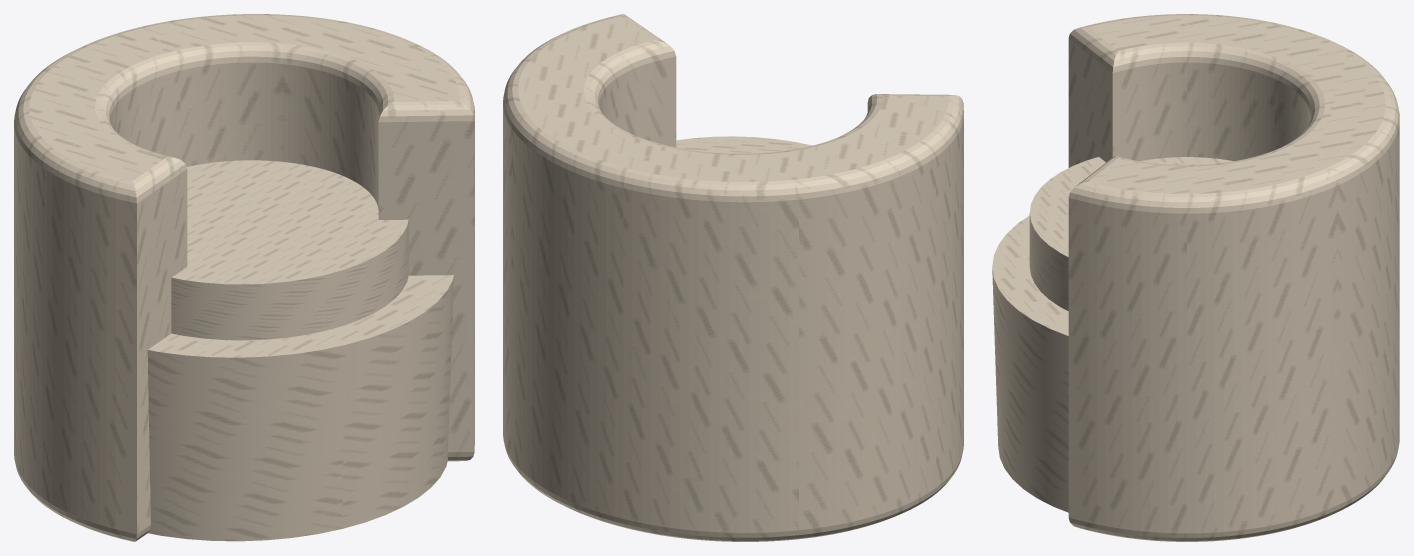
The model's file is armchair-barrel-boucle.glb.
3 views of the same model, side by side, from view 1: azimuth 30°, elevation 25°; view 2: azimuth 150°, elevation 25°; view 3: azimuth 270°, elevation 25° (orthographic). The views are drawn at different scales.
Parts seen in each view (by area): view 1: armchair-barrel-boucle; view 2: armchair-barrel-boucle; view 3: armchair-barrel-boucle.
Boxes of the visible parts, x1,y1,x2,y2 form: armchair-barrel-boucle: [14, 14, 474, 541]; armchair-barrel-boucle: [503, 14, 963, 541]; armchair-barrel-boucle: [992, 14, 1399, 541].
Size of the model in its own units: 0.91 by 0.77 by 0.8203.
1 material, 1 textured.
